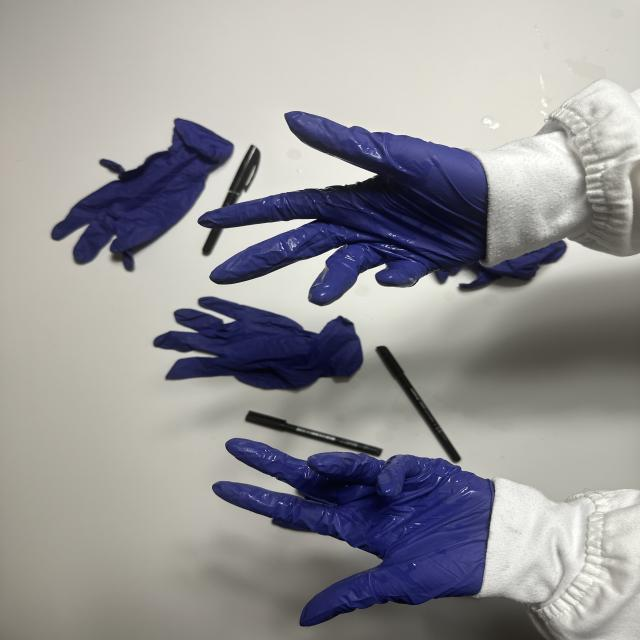gloves_contaminated: (198, 112, 488, 305), (213, 438, 494, 626)
